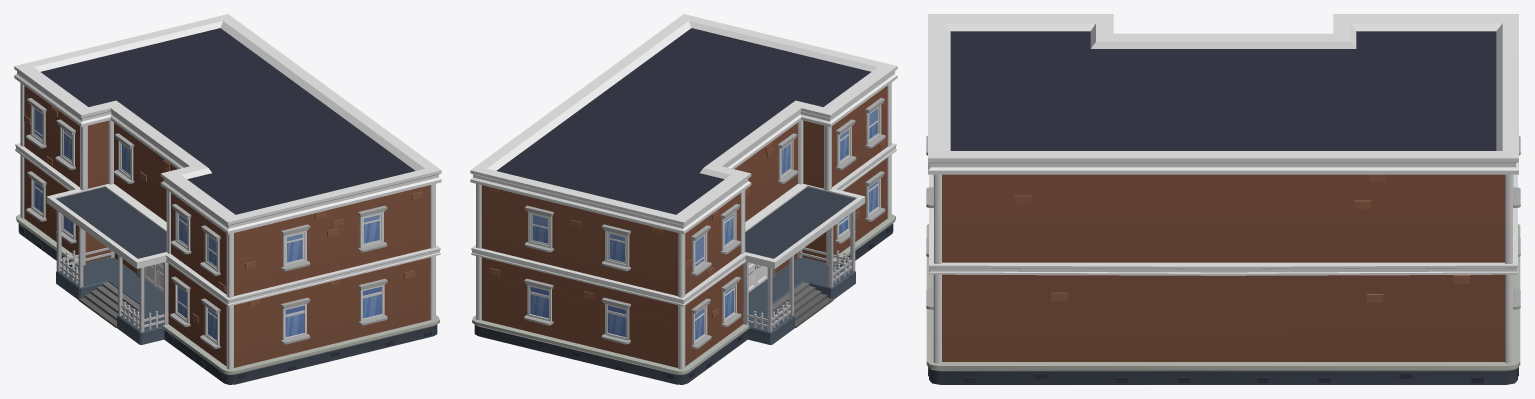
Rendered from Building_5_1_I.glb.
The picture shows the model from 3 angles, left to right: view 1: azimuth 30°, elevation 25°; view 2: azimuth 150°, elevation 25°; view 3: azimuth 270°, elevation 25°; orthographic projection. The views are drawn at different scales.
Parts seen in each view (by area): view 1: Building_5_1_I; view 2: Building_5_1_I; view 3: Building_5_1_I.
Boxes of the visible parts, x1,y1,x2,y2 form: Building_5_1_I: (14,14,441,384); Building_5_1_I: (470,14,897,384); Building_5_1_I: (926,14,1520,384).
Bounding box in the file's own units: 12.51 × 8.04 × 19.08.
Materials: 3 (3 with a texture image).
